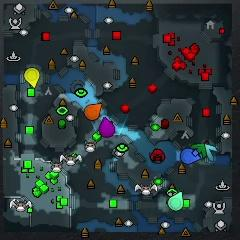p1: (181, 149, 200, 164)
p2: (169, 192, 183, 210)
p3: (99, 117, 114, 138)
p4: (25, 67, 39, 87)
p5: (85, 104, 101, 120)
x3: (203, 144, 218, 161)
x4: (192, 143, 207, 158)
